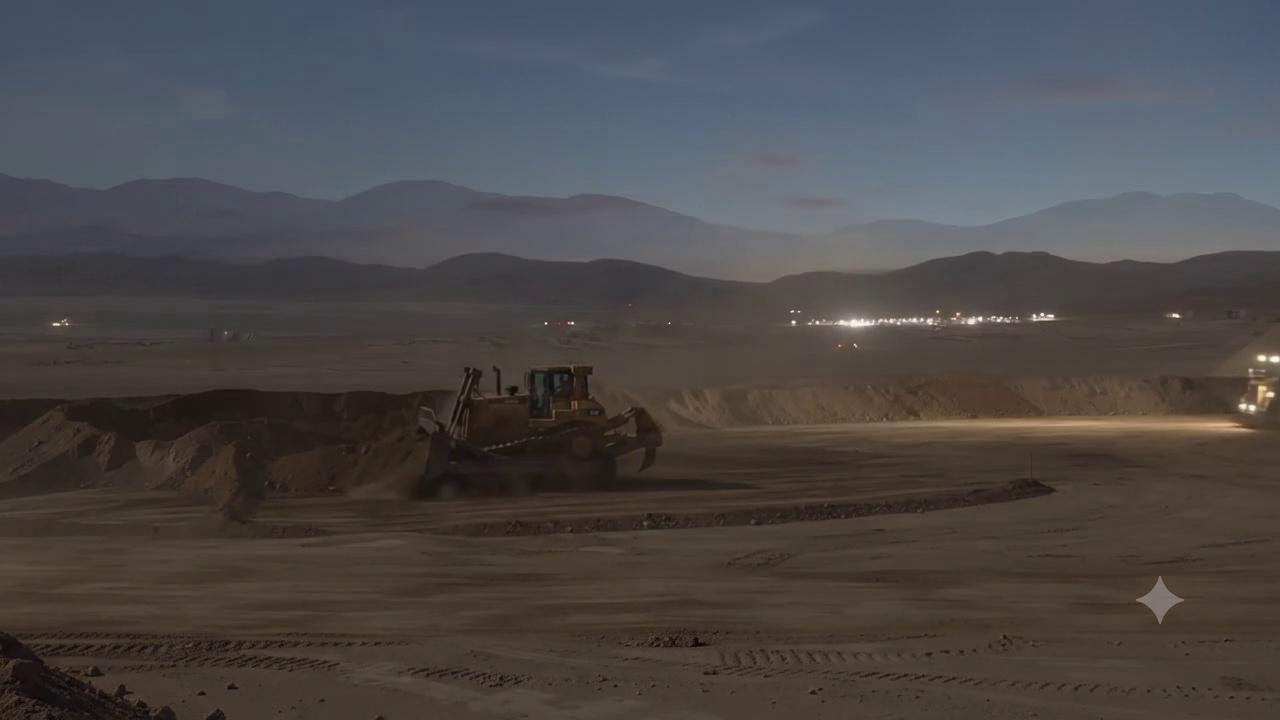CAEX: (413, 364, 665, 496)
